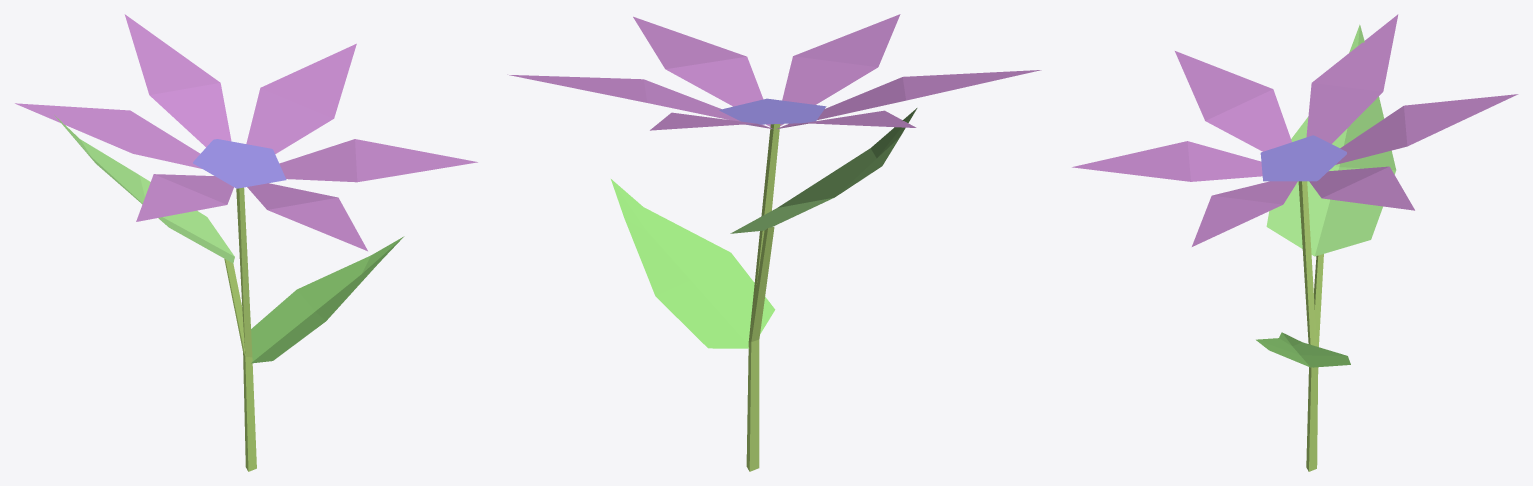
Rendered from Flower_b_OneS_07.fbx.
The picture shows the model from 3 angles, left to right: view 1: azimuth 30°, elevation 25°; view 2: azimuth 150°, elevation 25°; view 3: azimuth 270°, elevation 25°; orthographic projection. The views are drawn at different scales.
Parts seen in each view (by area): view 1: Flower_b_OneS_07; view 2: Flower_b_OneS_07; view 3: Flower_b_OneS_07.
Part boxes in pixels (x1,y1,x2,y2): Flower_b_OneS_07: (15,14,477,471); Flower_b_OneS_07: (507,14,1041,471); Flower_b_OneS_07: (1072,14,1518,471).
Bounding box in the file's own units: 34.63 × 35.23 × 38.98.
